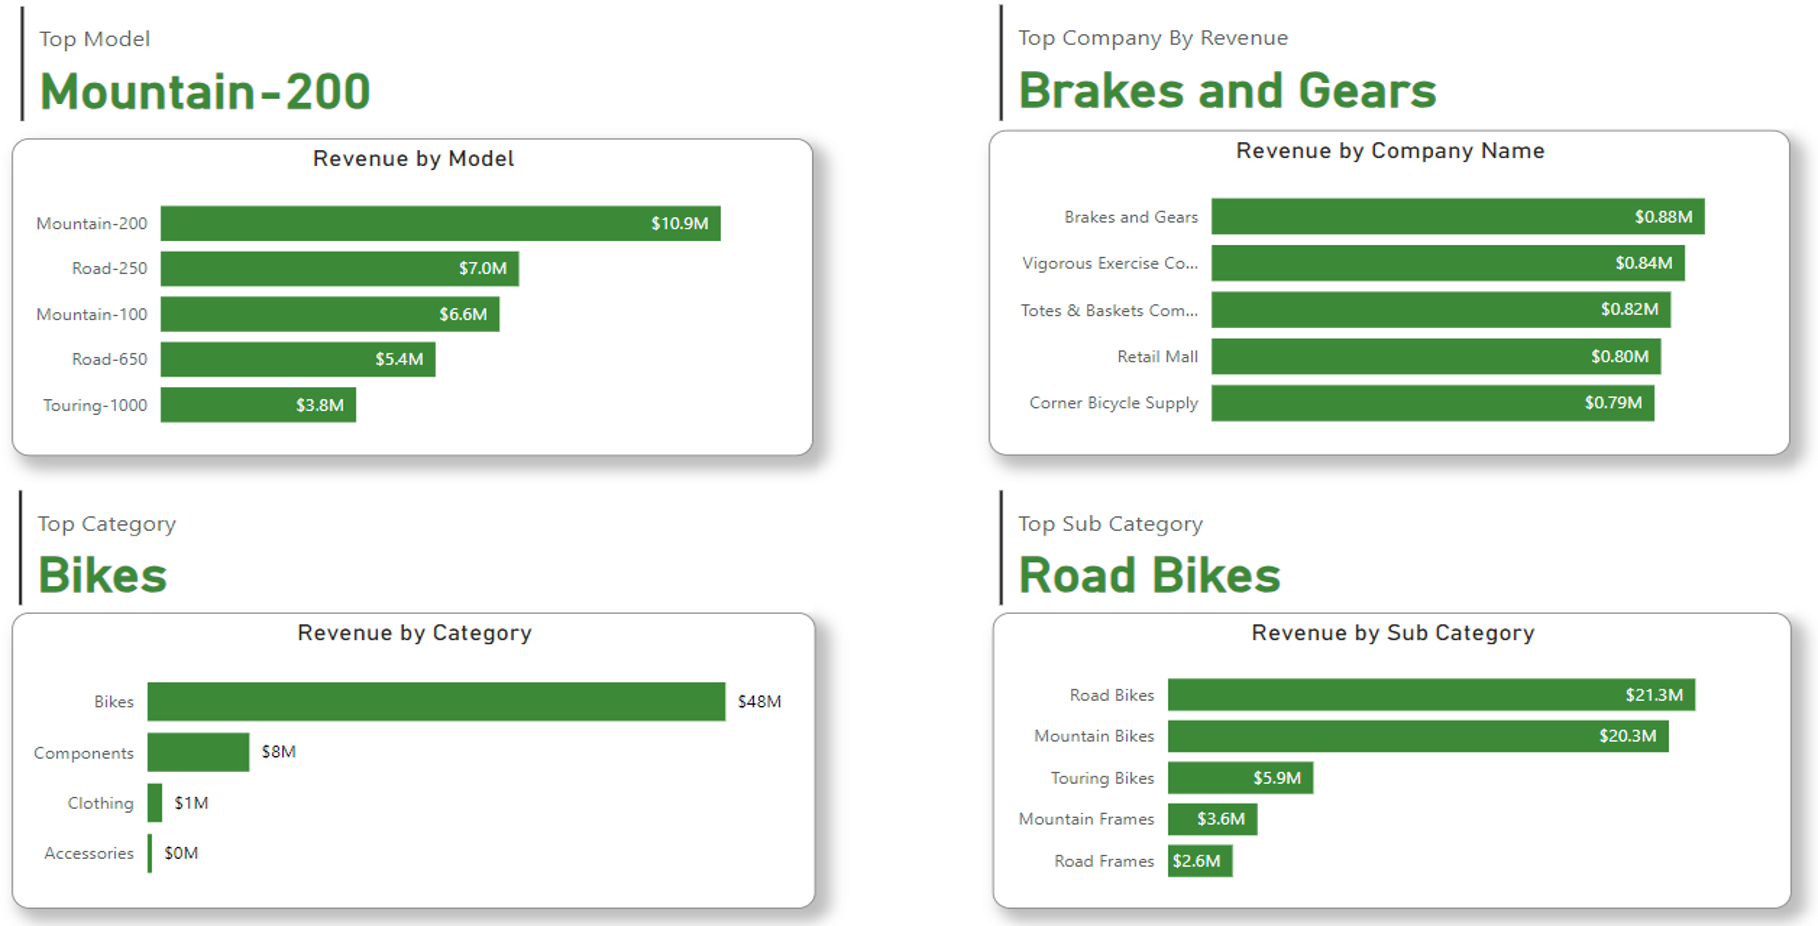

This screenshot's page, from the dashboard's own definition file:
{"tool":"powerbi","page":{"name":"Insights Top Things","canvas":[1280,720],"ordinal":3},"visuals":[{"type":"barChart","title":"Revenue by Model","fields":{"Category":["DimProduct.Model"],"Y":["FactSales.TotalRevenue"]},"box":[30,117.1,541.4,235.7],"z":0},{"type":"cardVisual","fields":{"Data":["DimProduct.Top Model"]},"box":[31.8,14.7,540.5,95.4],"z":1000},{"type":"barChart","title":"Revenue by Company Name","fields":{"Y":["FactSales.TotalRevenue"],"Category":["DimCustomer.CompanyName"]},"box":[691.4,111.4,541.4,241.4],"z":2000},{"type":"barChart","title":"Revenue by Category","fields":{"Category":["DimProduct.Category"],"Y":["FactSales.TotalRevenue"]},"box":[30,470,542.9,220],"z":3000},{"type":"barChart","title":"Revenue by Sub Category","fields":{"Y":["FactSales.TotalRevenue"],"Category":["DimProduct.SubCategory"]},"box":[692.9,470,540,220],"z":4000},{"type":"cardVisual","fields":{"Data":["DimProduct.Top Category"]},"box":[30.6,374.2,541.7,95.4],"z":5000},{"type":"cardVisual","fields":{"Data":["DimCustomer.Top Company By Revenue"]},"box":[693.3,13.5,541.7,96.6],"z":6000},{"type":"cardVisual","fields":{"Data":["DimProduct.Top Sub Category"]},"box":[693.3,374.2,541.7,95.4],"z":7000}]}

Visuals, with their boxes on the page's 1280x720 design canvas (x1, y1, x2, y2). These are canvas units, not pixel positions in the 1818x926 screenshot, which may show the page scaled, cropped or inside an application window:
"Revenue by Model" barChart: pyautogui.locateOnScreen(30, 117, 571, 353)
cardVisual - DimProduct.Top Model: pyautogui.locateOnScreen(32, 15, 572, 110)
"Revenue by Company Name" barChart: pyautogui.locateOnScreen(691, 111, 1233, 353)
"Revenue by Category" barChart: pyautogui.locateOnScreen(30, 470, 573, 690)
"Revenue by Sub Category" barChart: pyautogui.locateOnScreen(693, 470, 1233, 690)
cardVisual - DimProduct.Top Category: pyautogui.locateOnScreen(31, 374, 572, 470)
cardVisual - DimCustomer.Top Company By Revenue: pyautogui.locateOnScreen(693, 14, 1235, 110)
cardVisual - DimProduct.Top Sub Category: pyautogui.locateOnScreen(693, 374, 1235, 470)
